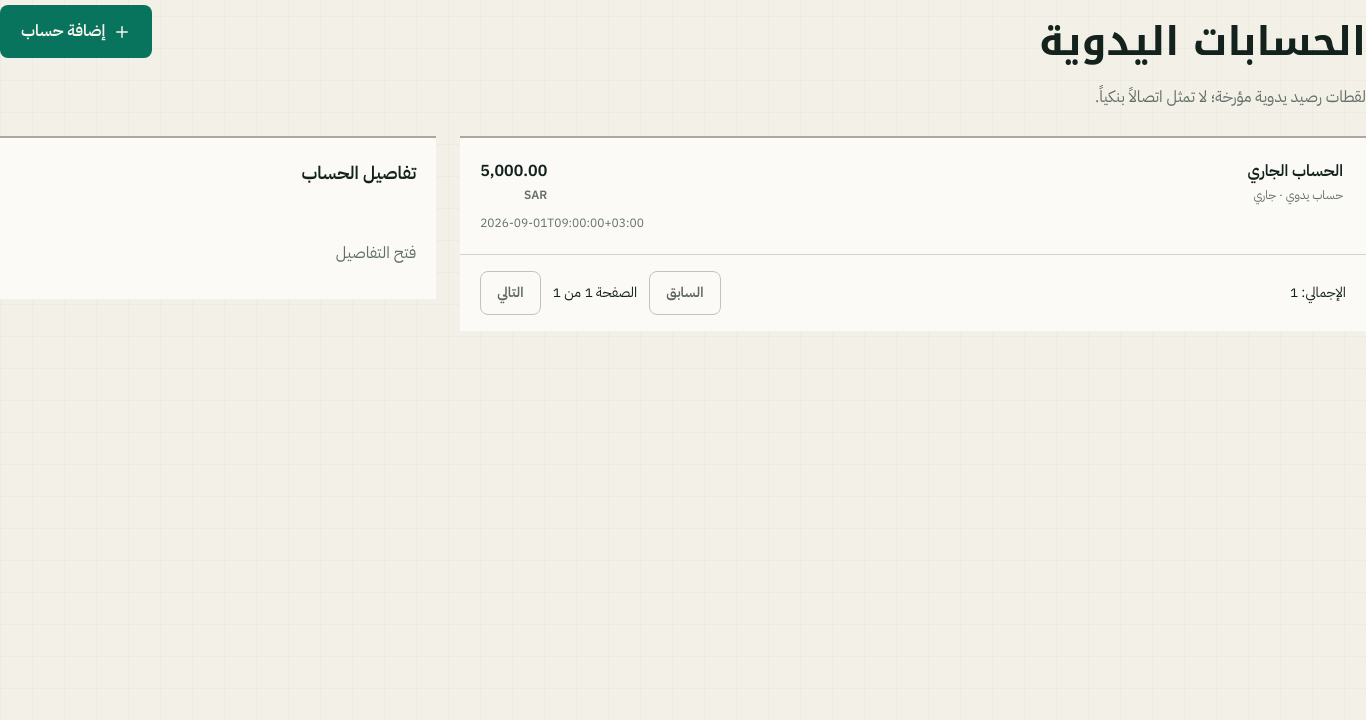
Test case: AccountsPage › loads backend detail and sends only the changed account field
This screenshot has width=1366, height=720.
Click the button "الحساب الجاري": [1295, 171] box [460,138,1365,254]
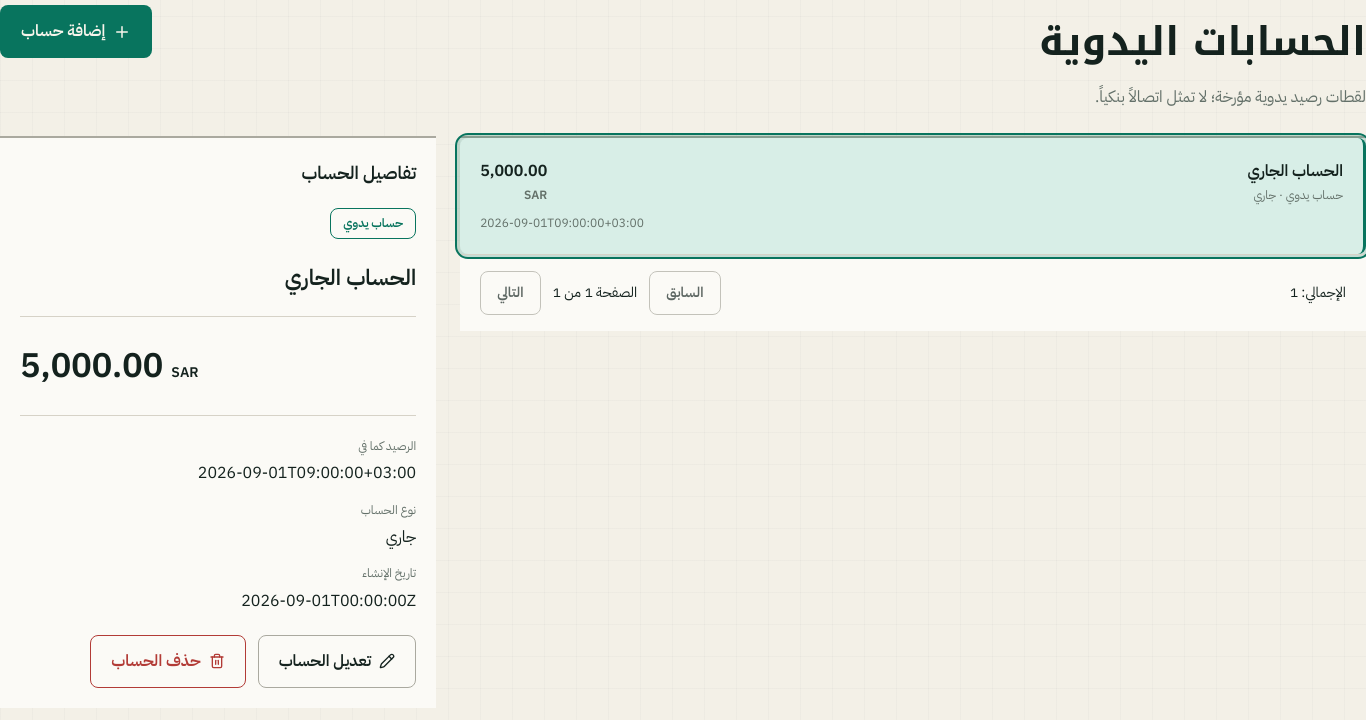
Click the button "تعديل الحساب": [337, 661] box [258,635,416,688]
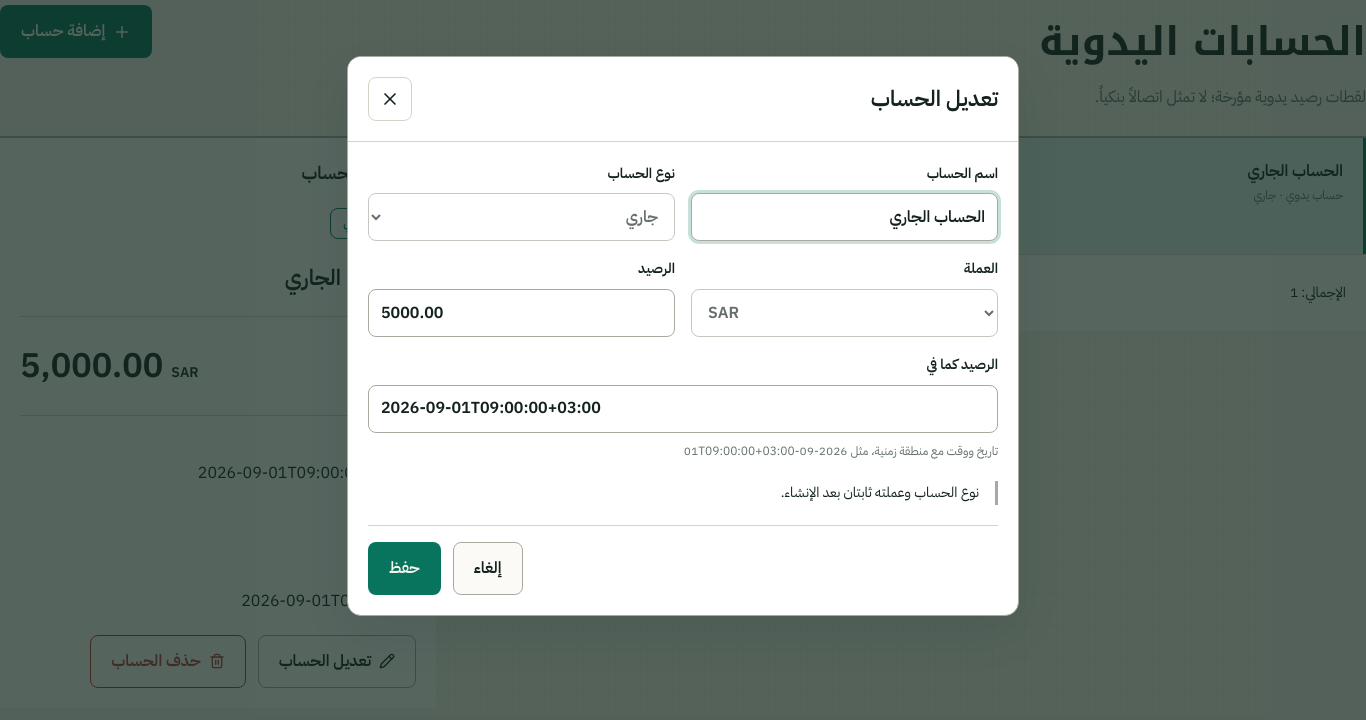
Replace the text in the field labelled "اسم الحساب" with "حساب معدل": [844, 217] box [691,193,998,241]
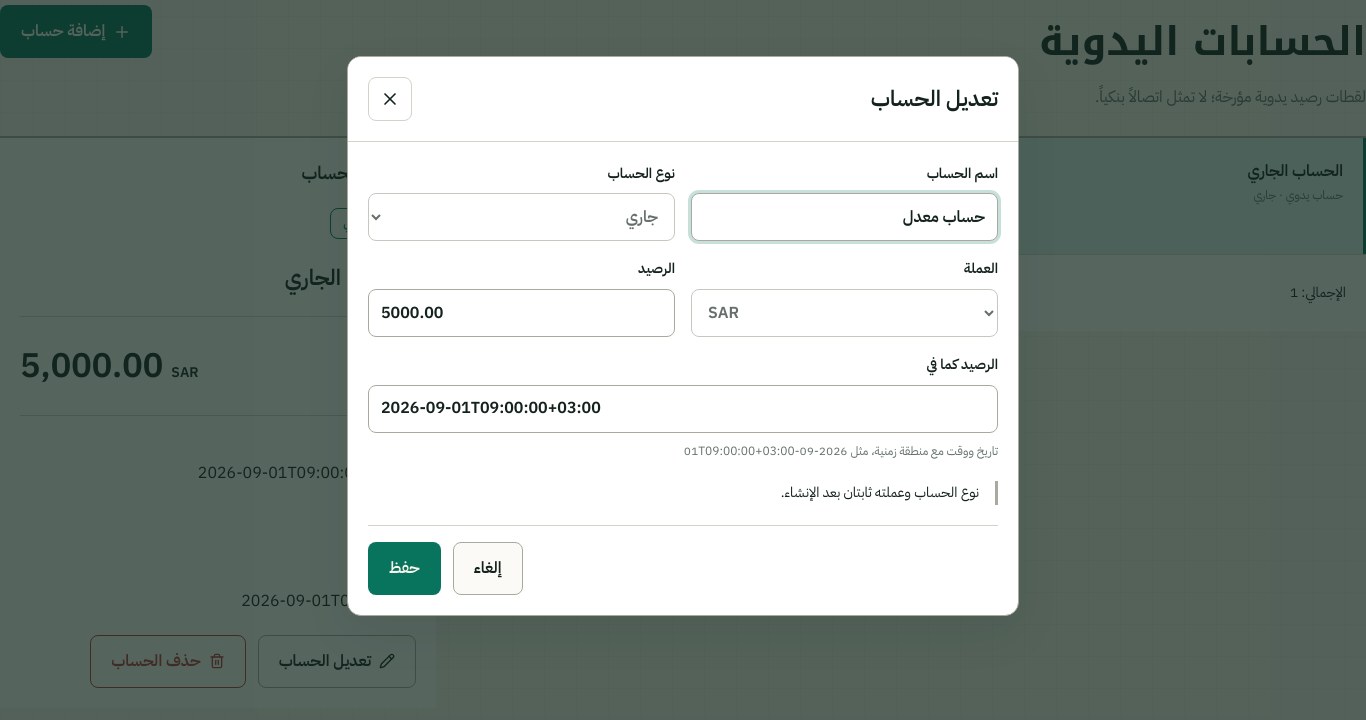
Expected: the dropdown labelled "نوع الحساب" is disabled, [368,193,675,241]
Expected: the dropdown labelled "العملة" is disabled, [691,289,998,337]
Click the button "حفظ": [404, 569] box [368,542,441,595]
(page scrolled)
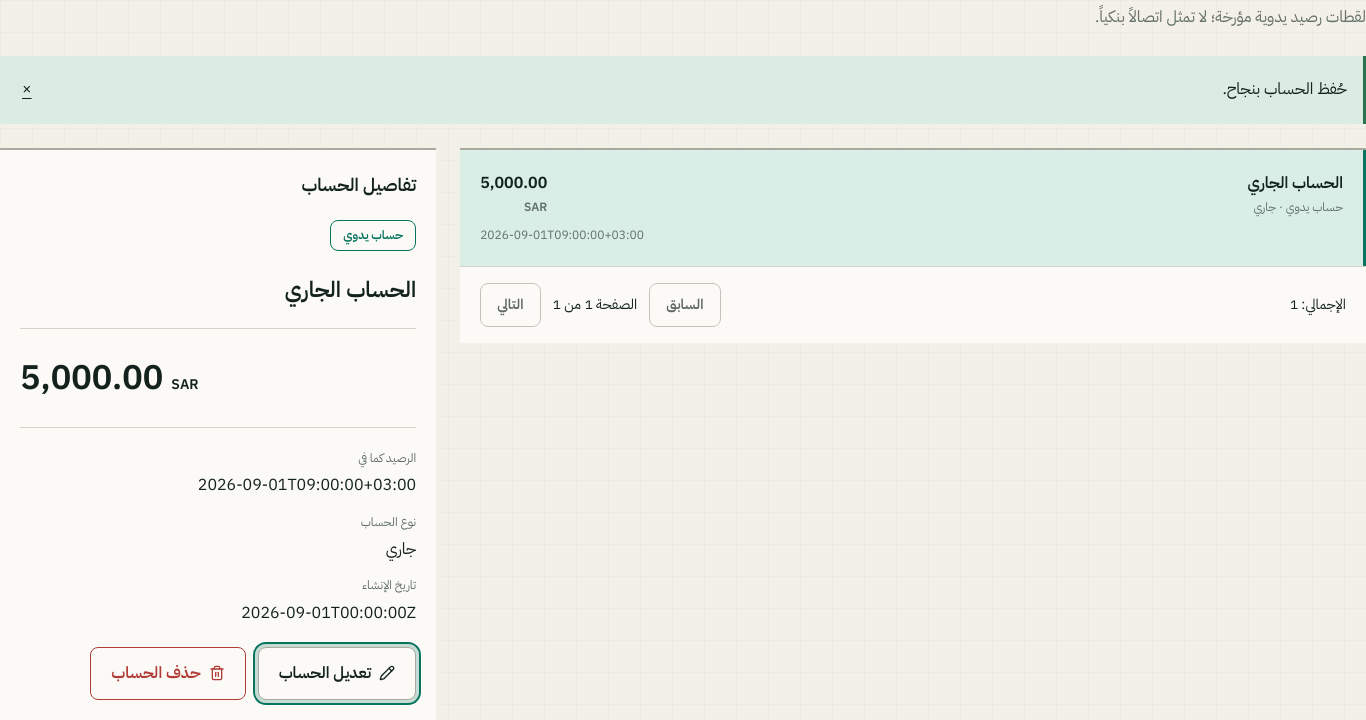
Expected: the text "حُفظ الحساب بنجاح." is shown, [1222,77,1347,101]
